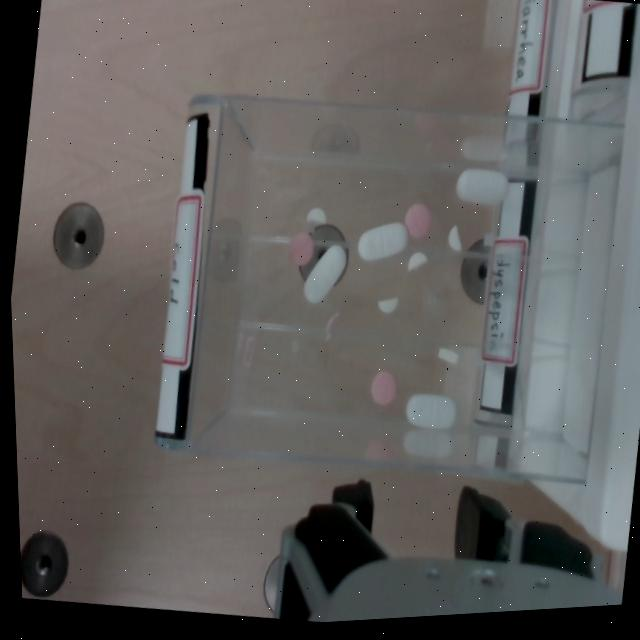amoxicle_tab: (304, 245, 346, 303), (358, 222, 408, 261), (456, 168, 507, 204), (406, 394, 456, 429)
panstar_tab: (404, 203, 430, 239), (370, 370, 396, 406), (289, 232, 314, 267)
sudafed_tab: (407, 252, 427, 270), (448, 225, 461, 252), (438, 347, 458, 364), (306, 207, 325, 224), (378, 298, 397, 313)
